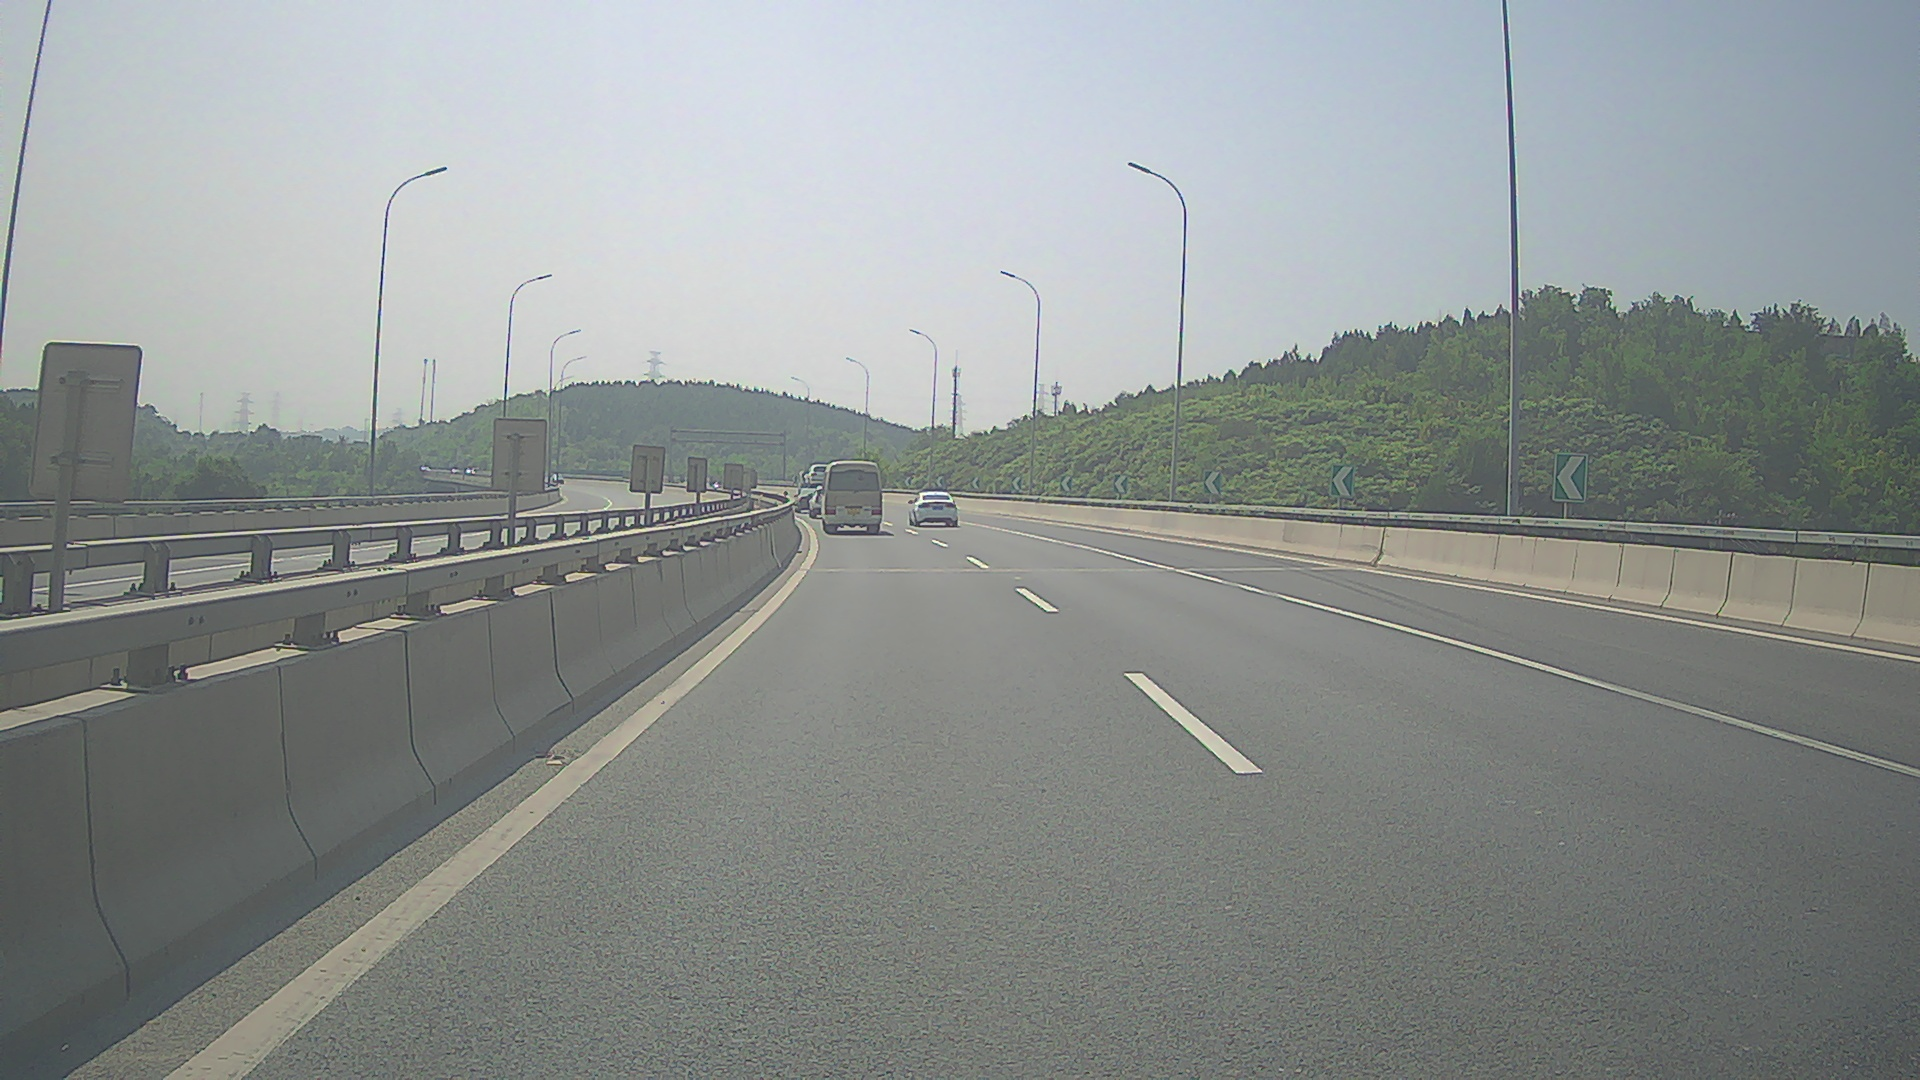bus: (820, 460, 882, 534)
car: (907, 491, 957, 526), (794, 487, 824, 513)
ignore: (808, 487, 847, 520)
truck: (794, 469, 837, 501)
